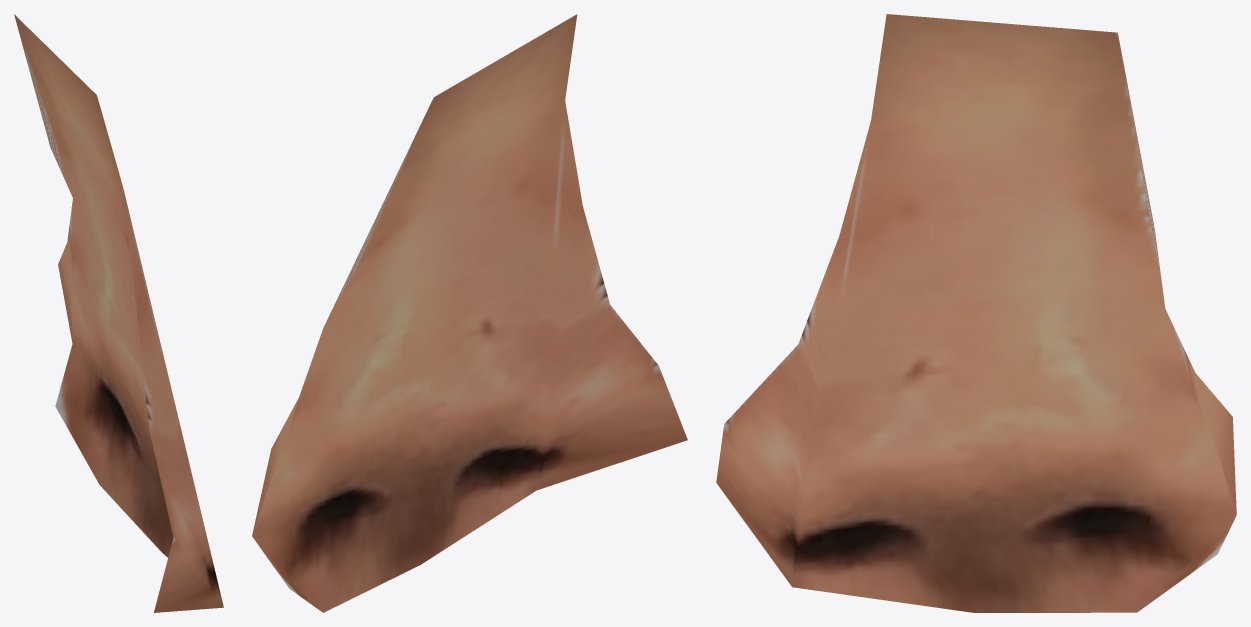
File: nose.glb
The picture shows the model from 3 angles, left to right: view 1: azimuth 30°, elevation 25°; view 2: azimuth 150°, elevation 25°; view 3: azimuth 270°, elevation 25°; orthographic projection. The views are drawn at different scales.
Visible parts, largest first — view 1: 平面.002; view 2: 平面.002; view 3: 平面.002.
Part boxes in pixels (<box>): 平面.002: <box>14,14,223,612</box>; 平面.002: <box>252,14,687,612</box>; 平面.002: <box>716,14,1236,612</box>.
Bounding box in the file's own units: 0.0139 × 0.0415 × 0.0359.
1 material, 1 textured.
